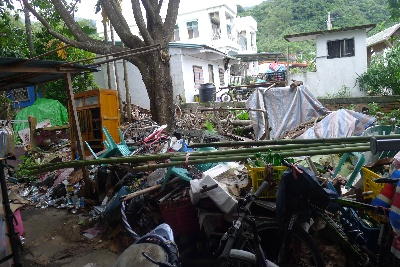bucket: (199, 81, 217, 103)
plastic_bag: (244, 84, 378, 139), (12, 97, 68, 140)
